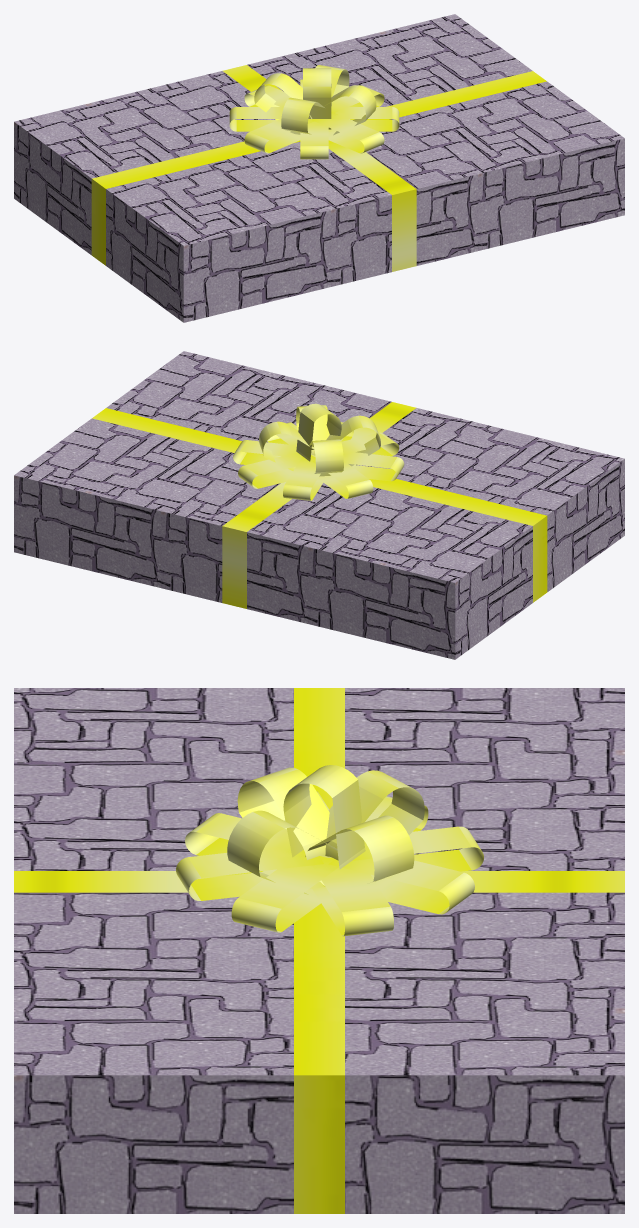
Rendered from Gift.obj.
3 views of the same model, one above another, from view 1: azimuth 30°, elevation 25°; view 2: azimuth 150°, elevation 25°; view 3: azimuth 270°, elevation 25° (orthographic). The views are drawn at different scales.
Parts seen in each view (by area): view 1: Mesh14 gift1 Model, Mesh4 Group4 bow1 gift1 Model, Mesh10 Group10 bow1 gift1 Model, Mesh6 Group6 bow1 gift1 Model, Mesh3 Group3 bow1 gift1 Model, Mesh2 Group2 bow1 gift1 Model, Mesh1 Group1 bow1 gift1 Model, Mesh8 Group8 bow1 gift1 Model, Mesh13 Group13 bow1 gift1 Model, Mesh9 Group9 bow1 gift1 Model, Mesh7 Group7 bow1 gift1 Model, Mesh5 Group5 bow1 gift1 Model (+1 smaller); view 2: Mesh14 gift1 Model, Mesh12 Group12 bow1 gift1 Model, Mesh6 Group6 bow1 gift1 Model, Mesh11 Group11 bow1 gift1 Model, Mesh10 Group10 bow1 gift1 Model, Mesh2 Group2 bow1 gift1 Model, Mesh13 Group13 bow1 gift1 Model, Mesh5 Group5 bow1 gift1 Model, Mesh8 Group8 bow1 gift1 Model, Mesh1 Group1 bow1 gift1 Model, Mesh7 Group7 bow1 gift1 Model, Mesh9 Group9 bow1 gift1 Model; view 3: Mesh14 gift1 Model, Mesh3 Group3 bow1 gift1 Model, Mesh10 Group10 bow1 gift1 Model, Mesh4 Group4 bow1 gift1 Model, Mesh12 Group12 bow1 gift1 Model, Mesh5 Group5 bow1 gift1 Model, Mesh8 Group8 bow1 gift1 Model, Mesh13 Group13 bow1 gift1 Model, Mesh7 Group7 bow1 gift1 Model, Mesh11 Group11 bow1 gift1 Model, Mesh9 Group9 bow1 gift1 Model, Mesh1 Group1 bow1 gift1 Model.
Boxes of the visible parts, x1=… form: Mesh14 gift1 Model: x1=14, y1=14, x2=624, y2=322; Mesh4 Group4 bow1 gift1 Model: x1=310, y1=112, x2=384, y2=153; Mesh10 Group10 bow1 gift1 Model: x1=303, y1=68, x2=331, y2=129; Mesh6 Group6 bow1 gift1 Model: x1=244, y1=119, x2=313, y2=153; Mesh3 Group3 bow1 gift1 Model: x1=328, y1=107, x2=399, y2=131; Mesh2 Group2 bow1 gift1 Model: x1=229, y1=107, x2=283, y2=131; Mesh1 Group1 bow1 gift1 Model: x1=300, y1=119, x2=328, y2=159; Mesh8 Group8 bow1 gift1 Model: x1=281, y1=97, x2=324, y2=134; Mesh13 Group13 bow1 gift1 Model: x1=254, y1=73, x2=312, y2=120; Mesh9 Group9 bow1 gift1 Model: x1=320, y1=85, x2=376, y2=135; Mesh7 Group7 bow1 gift1 Model: x1=315, y1=65, x2=349, y2=97; Mesh5 Group5 bow1 gift1 Model: x1=331, y1=85, x2=384, y2=119; Mesh14 gift1 Model: x1=14, y1=351, x2=624, y2=659; Mesh12 Group12 bow1 gift1 Model: x1=238, y1=452, x2=314, y2=488; Mesh6 Group6 bow1 gift1 Model: x1=343, y1=452, x2=404, y2=481; Mesh11 Group11 bow1 gift1 Model: x1=283, y1=456, x2=325, y2=500; Mesh10 Group10 bow1 gift1 Model: x1=296, y1=403, x2=341, y2=461; Mesh2 Group2 bow1 gift1 Model: x1=312, y1=460, x2=373, y2=498; Mesh13 Group13 bow1 gift1 Model: x1=309, y1=439, x2=343, y2=476; Mesh5 Group5 bow1 gift1 Model: x1=233, y1=440, x2=297, y2=464; Mesh8 Group8 bow1 gift1 Model: x1=326, y1=415, x2=380, y2=466; Mesh1 Group1 bow1 gift1 Model: x1=341, y1=432, x2=399, y2=464; Mesh7 Group7 bow1 gift1 Model: x1=259, y1=421, x2=314, y2=470; Mesh9 Group9 bow1 gift1 Model: x1=296, y1=405, x2=329, y2=455; Mesh14 gift1 Model: x1=14, y1=688, x2=624, y2=1213; Mesh3 Group3 bow1 gift1 Model: x1=231, y1=855, x2=338, y2=932; Mesh10 Group10 bow1 gift1 Model: x1=283, y1=765, x2=365, y2=869; Mesh4 Group4 bow1 gift1 Model: x1=176, y1=847, x2=325, y2=900; Mesh12 Group12 bow1 gift1 Model: x1=320, y1=852, x2=474, y2=914; Mesh5 Group5 bow1 gift1 Model: x1=312, y1=856, x2=393, y2=936; Mesh8 Group8 bow1 gift1 Model: x1=237, y1=767, x2=329, y2=859; Mesh13 Group13 bow1 gift1 Model: x1=325, y1=770, x2=424, y2=860; Mesh7 Group7 bow1 gift1 Model: x1=305, y1=815, x2=414, y2=881; Mesh11 Group11 bow1 gift1 Model: x1=352, y1=826, x2=483, y2=880; Mesh9 Group9 bow1 gift1 Model: x1=227, y1=810, x2=337, y2=894; Mesh1 Group1 bow1 gift1 Model: x1=185, y1=813, x2=305, y2=873.
Bounding box in the file's own units: 18 × 5.3 × 12.
